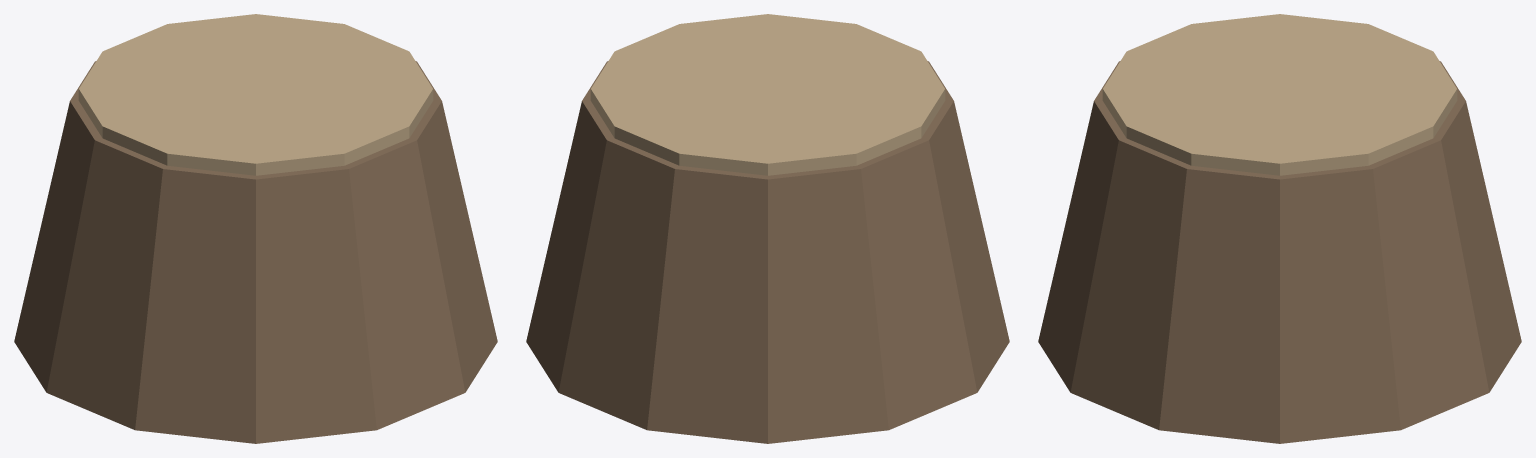
Rendered from stump.glb.
3 renders of one model, left to right at view 1: azimuth 30°, elevation 25°; view 2: azimuth 150°, elevation 25°; view 3: azimuth 270°, elevation 25°, orthographic.
Visible parts, largest first — view 1: Cylinder, Cylinder.001; view 2: Cylinder, Cylinder.001; view 3: Cylinder, Cylinder.001.
Part boxes in pixels (x1,y1,x2,y2): Cylinder: (14,61,497,443); Cylinder.001: (78,14,433,175); Cylinder: (526,61,1009,443); Cylinder.001: (590,14,945,175); Cylinder: (1038,61,1521,443); Cylinder.001: (1102,14,1457,175).
Size of the model in its own units: 1.09 by 0.63 by 1.09.
